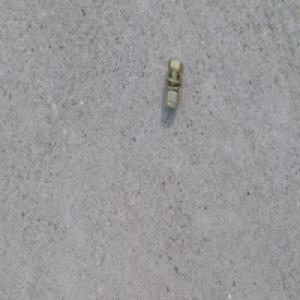BoltNutSet: (160, 62, 183, 112)
